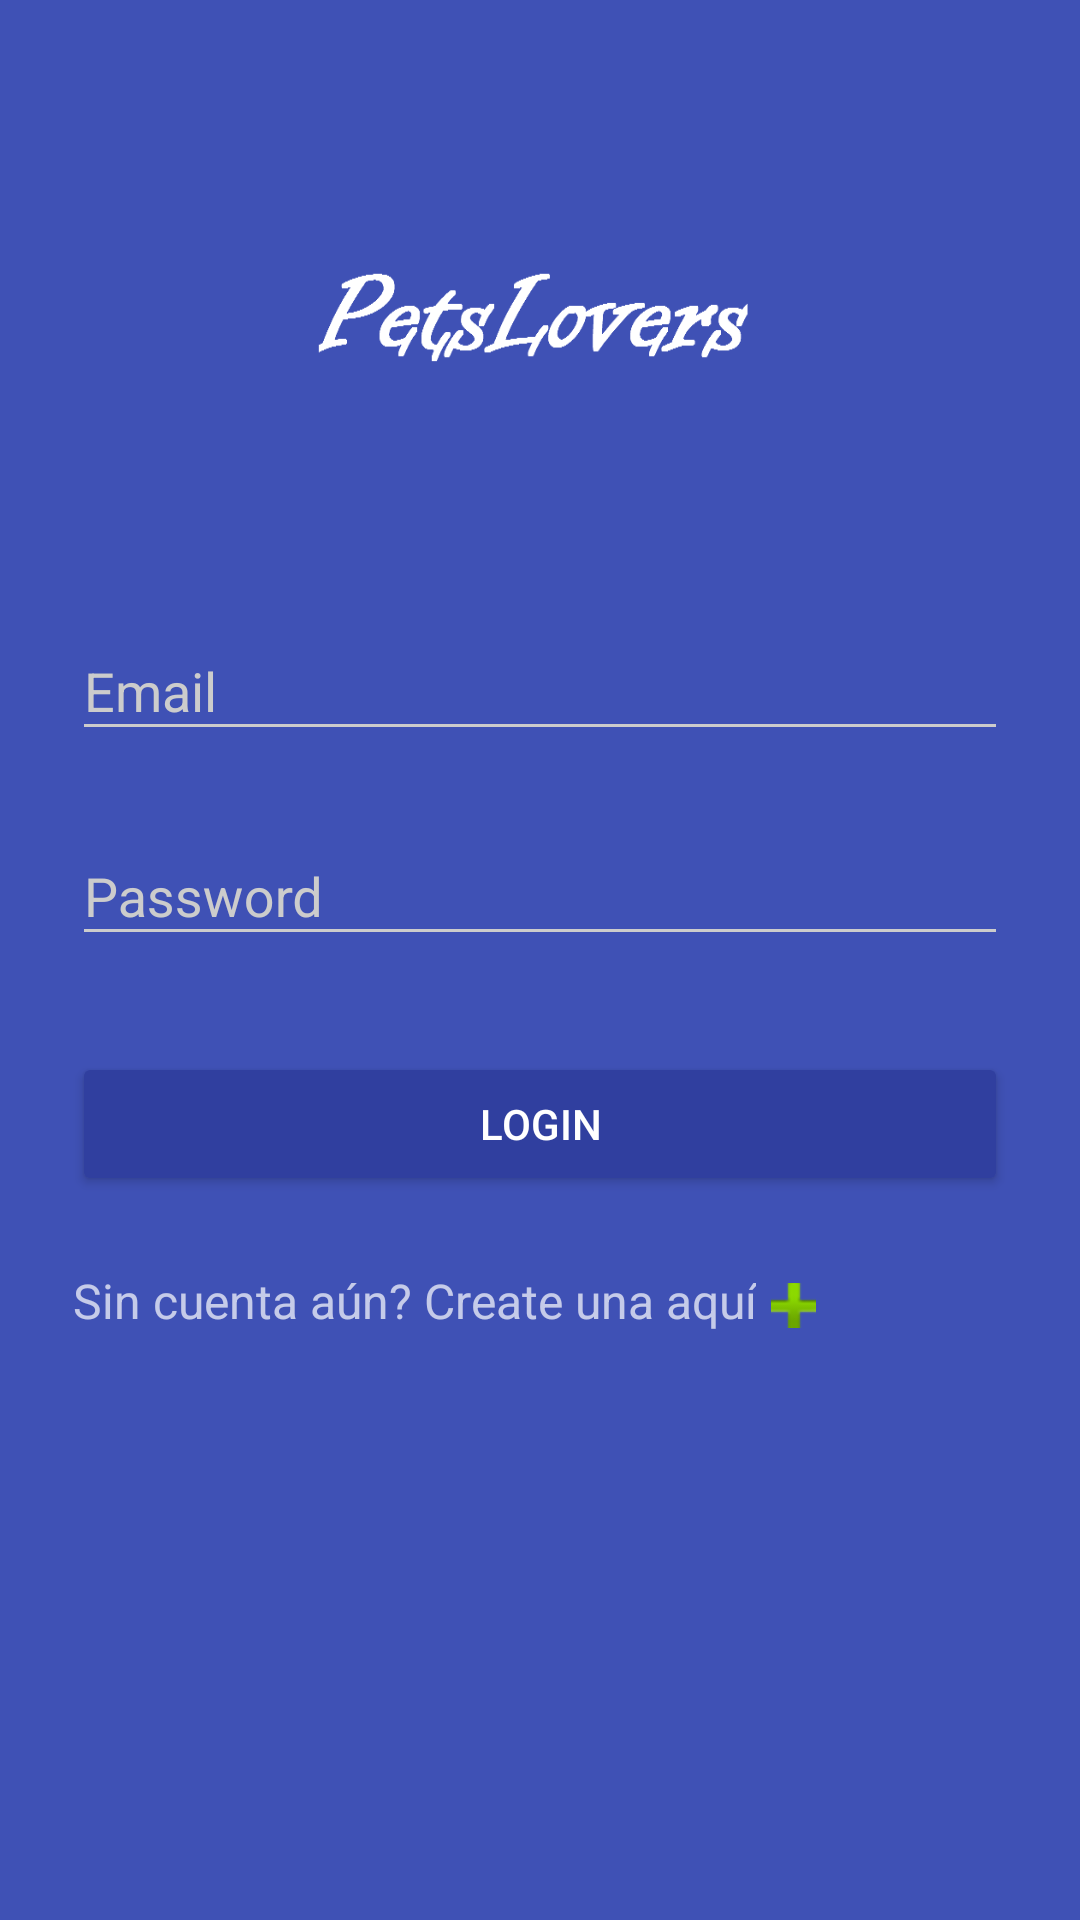

Named icons in this screenshot (1080px×1920px) and their bounding boxes, (x1, y1, x2, y2):
add: (771, 1283, 816, 1328)
